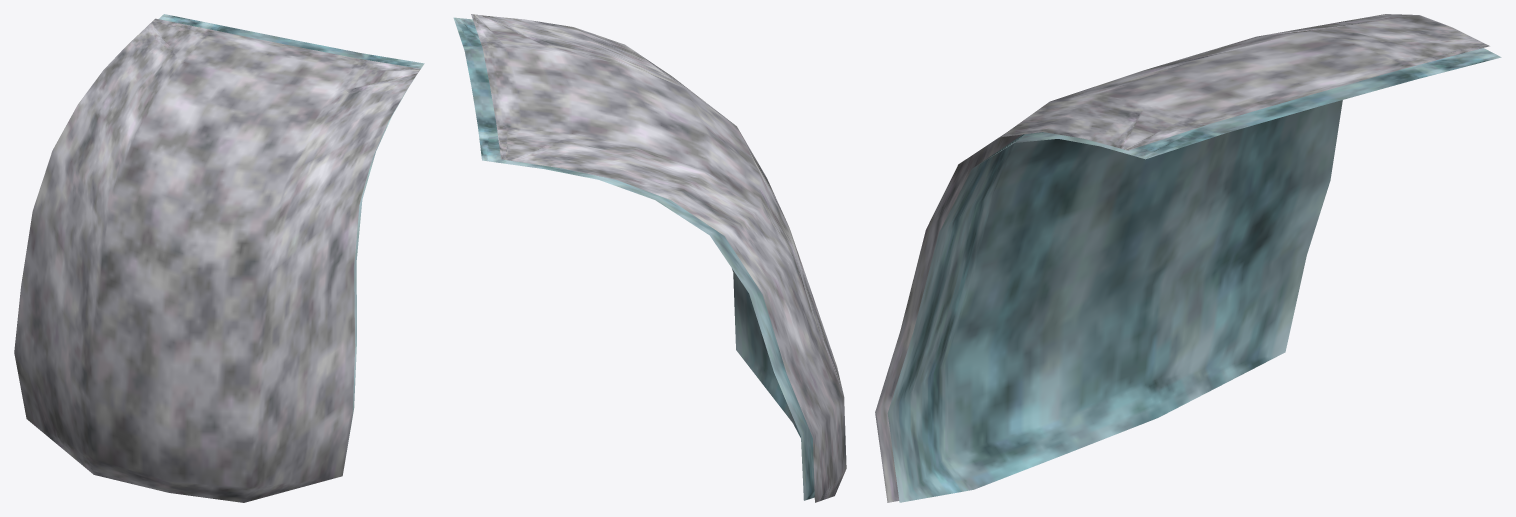
The model's file is CB_NEWPLAYSURFACE_CB_WATERFALLS09.fbx.
3 renders of one model, left to right at view 1: azimuth 30°, elevation 25°; view 2: azimuth 150°, elevation 25°; view 3: azimuth 270°, elevation 25°, orthographic. The views are drawn at different scales.
Parts seen in each view (by area): view 1: CB_NEWPLAYSURFACE_CB_WATERFALLS09; view 2: CB_NEWPLAYSURFACE_CB_WATERFALLS09; view 3: CB_NEWPLAYSURFACE_CB_WATERFALLS09.
Boxes of the visible parts, x1,y1,x2,y2 form: CB_NEWPLAYSURFACE_CB_WATERFALLS09: [14, 14, 424, 502]; CB_NEWPLAYSURFACE_CB_WATERFALLS09: [453, 14, 846, 502]; CB_NEWPLAYSURFACE_CB_WATERFALLS09: [875, 14, 1501, 502].
Bounding box in the file's own units: 61181 × 54747 × 61049.
Materials: 2 (2 with a texture image).
